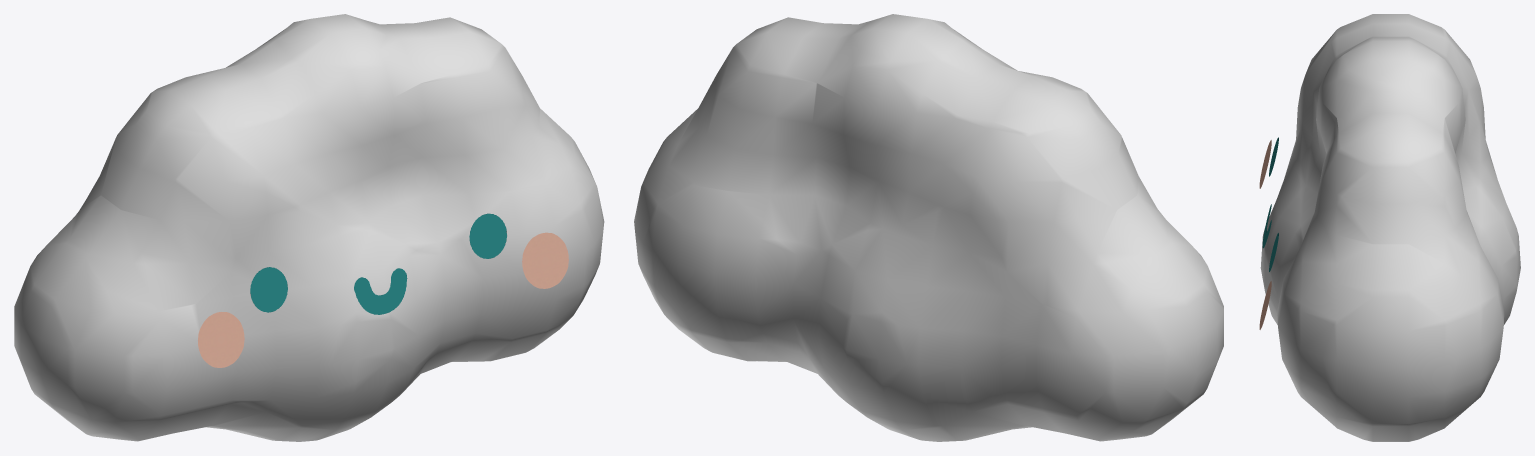
Rendered from cloud.glb.
3 renders of one model, left to right at view 1: azimuth 30°, elevation 25°; view 2: azimuth 150°, elevation 25°; view 3: azimuth 270°, elevation 25°, orthographic. The views are drawn at different scales.
Visible parts, largest first — view 1: CLOUD, FACE; view 2: CLOUD; view 3: CLOUD, FACE.
Boxes of the visible parts, x1=… form: CLOUD: x1=14, y1=14, x2=604, y2=441; FACE: x1=198, y1=213, x2=568, y2=367; CLOUD: x1=634, y1=14, x2=1223, y2=441; CLOUD: x1=1260, y1=14, x2=1520, y2=441; FACE: x1=1259, y1=137, x2=1278, y2=329.
Size of the model in its own units: 2.99 by 2.03 by 1.41.
Materials: 2 (1 with a texture image).
